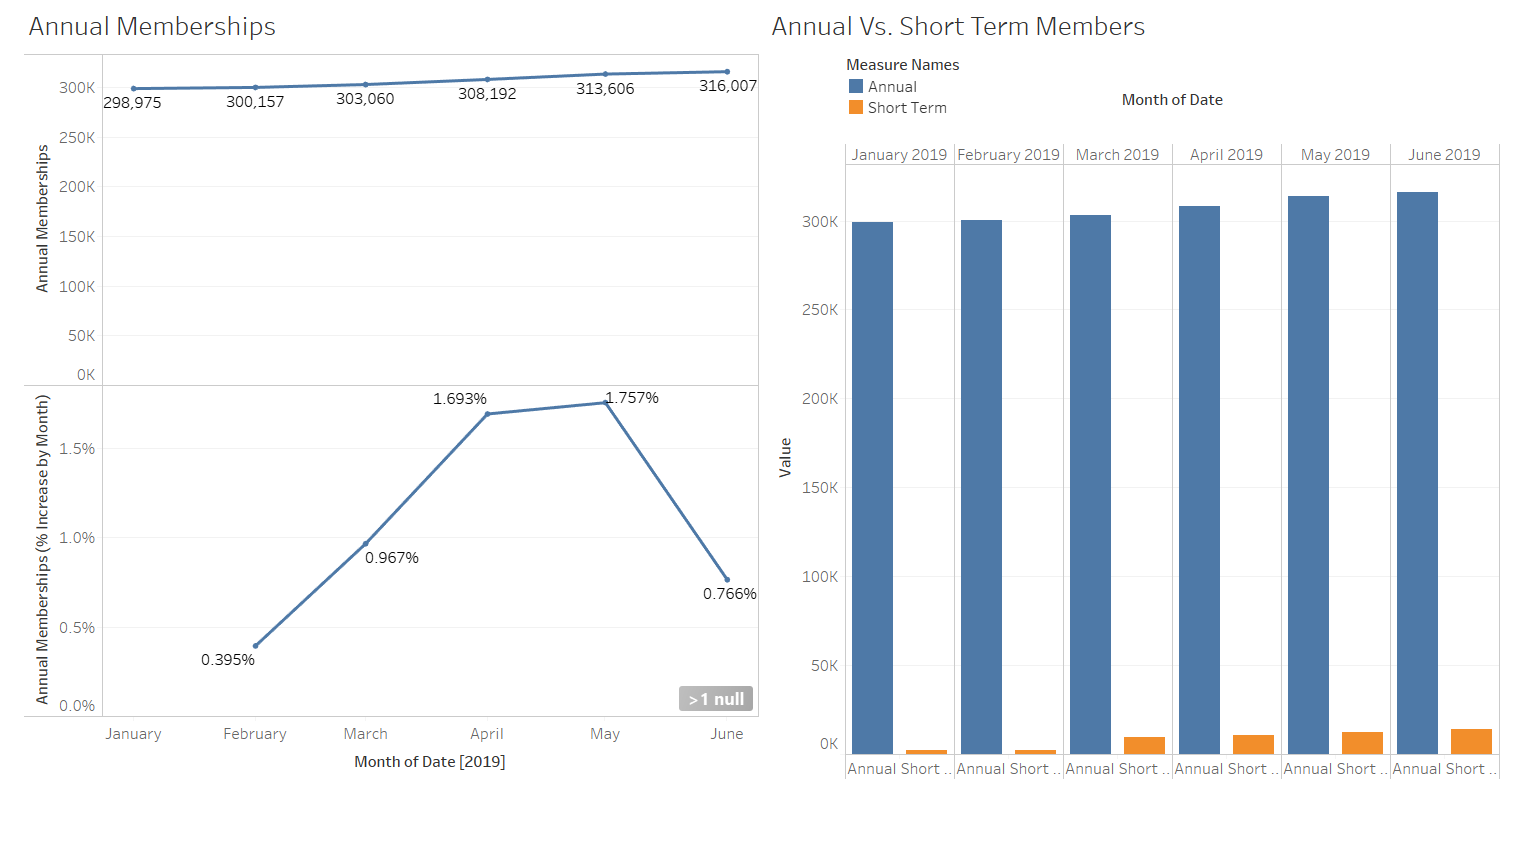

The page's visual inventory and layout, read from the dashboard file:
{"tool":"tableau","page":{"name":"CityBike Membership","canvas":[1500,800],"ordinal":1},"visuals":[{"type":"worksheet","title":"Memberships - % Increase","mark":"Automatic","rows":["Total Annual Members (All Time)"],"cols":["Date"],"box":[8,8,743.5,784]},{"type":"worksheet","title":"Annual Vs. Short Term Members","mark":"Bar","cols":["Date"],"box":[751.5,8,740.5,784]},{"type":"legend","title":"Annual Vs. Short Term Members","param":"[federated.1qg5kl2160abvq1gk4hkn0zsrtte].[:Measure Names]","box":[834,62,210,66]}]}

Visuals, with their boxes on the page's 1500x800 design canvas (x1, y1, x2, y2). These are canvas units, not pixel positions in the 1532x845 screenshot, which may show the page scaled, cropped or inside an application window:
"Memberships - % Increase" worksheet: (8, 8, 752, 792)
"Annual Vs. Short Term Members" worksheet (Bar marks): (752, 8, 1492, 792)
"Annual Vs. Short Term Members" legend: (834, 62, 1044, 128)
